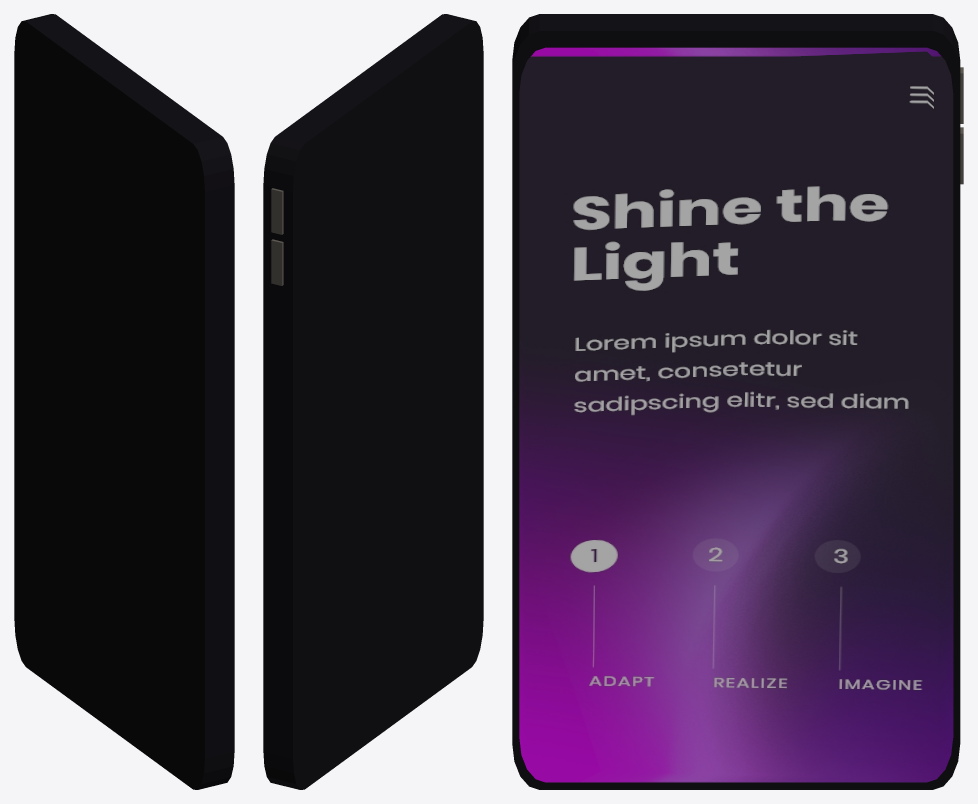
The model's file is phone.glb.
The picture shows the model from 3 angles, left to right: view 1: azimuth 30°, elevation 25°; view 2: azimuth 150°, elevation 25°; view 3: azimuth 270°, elevation 25°; orthographic projection. The views are drawn at different scales.
Visible parts, largest first — view 1: Plane.001; view 2: Plane.001; view 3: Plane.001.
Part boxes in pixels (x1,y1,x2,y2): Plane.001: (14,14,234,789); Plane.001: (263,14,483,789); Plane.001: (512,14,963,789).
Bounding box in the file's own units: 0.1794 × 3.74 × 2.02.
Materials: 3 (1 with a texture image).
